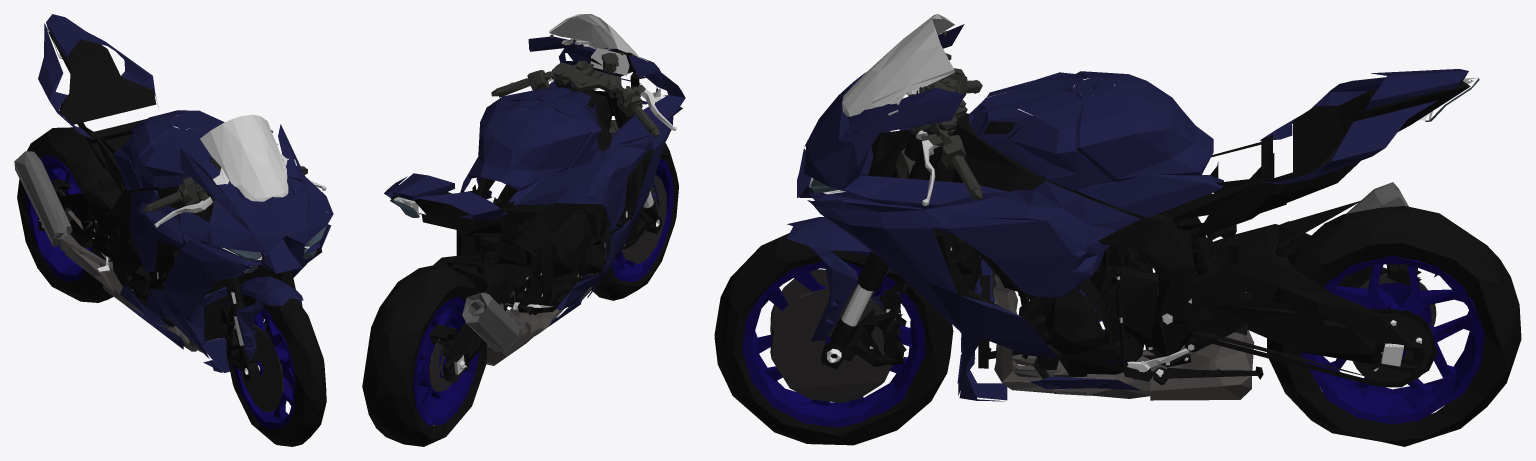
The model's file is yamaho-r1_lod.glb.
3 renders of one model, left to right at view 1: azimuth 30°, elevation 25°; view 2: azimuth 150°, elevation 25°; view 3: azimuth 270°, elevation 25°, orthographic. The views are drawn at different scales.
Parts seen in each view (by area): view 1: Yam_R1_Body_Main_Decals_0; view 2: Yam_R1_Body_Main_Decals_0; view 3: Yam_R1_Body_Main_Decals_0.
Part boxes in pixels (bbox=[...]): Yam_R1_Body_Main_Decals_0: bbox=[14, 14, 333, 446]; Yam_R1_Body_Main_Decals_0: bbox=[362, 14, 685, 446]; Yam_R1_Body_Main_Decals_0: bbox=[714, 14, 1521, 446].
Bounding box in the file's own units: 0.6966 × 1.19 × 2.06.
